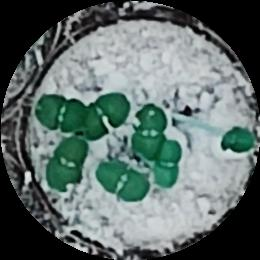Basil: (83, 95, 132, 138), (45, 140, 84, 191), (100, 161, 147, 203), (134, 105, 164, 159), (38, 95, 81, 129), (156, 140, 181, 189), (218, 124, 256, 152)
